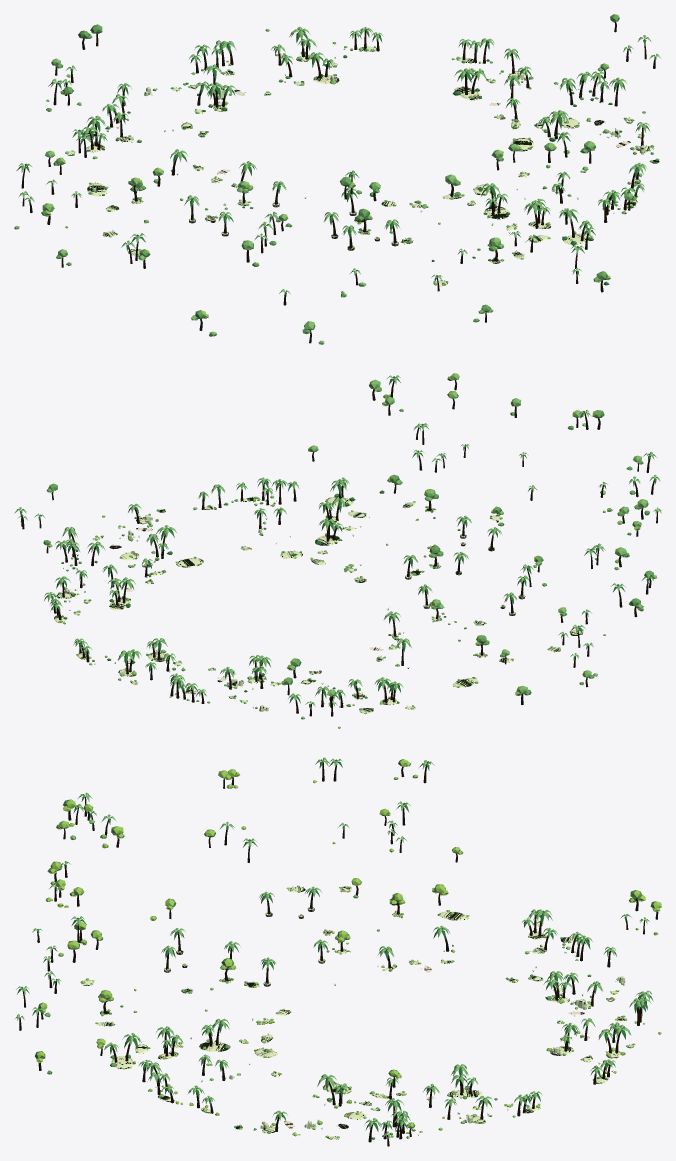
File: ILHA2_10_VEGETATION_94f9d4.fbx
3 renders of one model, top to bottom at view 1: azimuth 30°, elevation 25°; view 2: azimuth 150°, elevation 25°; view 3: azimuth 270°, elevation 25°, orthographic. The views are drawn at different scales.
Parts seen in each view (by area): view 1: DB_Veg_Palms__Leaf_Palm, DB_Veg_Palms__Bark, DB_Veg_Crowns__Leaf_Palm, DB_Veg_Beds__Grass_DB, DB_Veg_Crowns__Bark, DB_Veg_Beds__Grass_DB_B, DB_Veg_Crowns__Leaf_Pine_Light, DB_Veg_Palms__Leaf_DBVegDeep_g14_10, DB_Veg_Crowns__Leaf_DBVegDeep, DB_Veg_Shrubs__Leaf_DBVegDeep, DB_Veg_Palms__Leaf_DBVegDeep_g13_9, DB_Veg_Shrubs__Leaf_Pine_Light_g13_9; view 2: DB_Veg_Palms__Leaf_Palm, DB_Veg_Palms__Bark, DB_Veg_Beds__Grass_DB, DB_Veg_Crowns__Leaf_Palm, DB_Veg_Beds__Grass_DB_B, DB_Veg_Crowns__Bark, DB_Veg_Crowns__Leaf_Pine_Light, DB_Veg_Palms__Leaf_DBVegDeep_g14_10, DB_Veg_Crowns__Leaf_DBVegLime, DB_Veg_Crowns__Leaf_DBVegDeep; view 3: DB_Veg_Palms__Leaf_Palm, DB_Veg_Palms__Bark, DB_Veg_Beds__Grass_DB, DB_Veg_Crowns__Leaf_DBVegLime, DB_Veg_Beds__Grass_DB_B, DB_Veg_Crowns__Leaf_Palm, DB_Veg_Crowns__Bark, DB_Veg_Shrubs__Leaf_DBVegLime, DB_Veg_Palms__Leaf_DBVegDeep_g14_10, DB_Veg_Crowns__Leaf_Pine_Light, DB_Veg_Crowns__Leaf_DBVegDeep, DB_Veg_Palms__Leaf_DBVegDeep_g13_9.
Part boxes in pixels (bbox=[...]): DB_Veg_Palms__Leaf_Palm: bbox=[83, 26, 649, 248]; DB_Veg_Palms__Bark: bbox=[89, 30, 643, 261]; DB_Veg_Crowns__Leaf_Palm: bbox=[14, 29, 661, 344]; DB_Veg_Beds__Grass_DB: bbox=[68, 46, 657, 284]; DB_Veg_Crowns__Bark: bbox=[21, 22, 655, 343]; DB_Veg_Beds__Grass_DB_B: bbox=[67, 47, 659, 286]; DB_Veg_Crowns__Leaf_Pine_Light: bbox=[41, 14, 636, 334]; DB_Veg_Palms__Leaf_DBVegDeep_g14_10: bbox=[200, 29, 618, 108]; DB_Veg_Crowns__Leaf_DBVegDeep: bbox=[16, 37, 656, 336]; DB_Veg_Shrubs__Leaf_DBVegDeep: bbox=[72, 49, 657, 282]; DB_Veg_Palms__Leaf_DBVegDeep_g13_9: bbox=[184, 173, 565, 238]; DB_Veg_Shrubs__Leaf_Pine_Light_g13_9: bbox=[103, 46, 612, 285]; DB_Veg_Palms__Leaf_Palm: bbox=[44, 477, 529, 701]; DB_Veg_Palms__Bark: bbox=[53, 482, 523, 713]; DB_Veg_Beds__Grass_DB: bbox=[55, 497, 581, 712]; DB_Veg_Crowns__Leaf_Palm: bbox=[14, 373, 661, 728]; DB_Veg_Beds__Grass_DB_B: bbox=[54, 497, 583, 713]; DB_Veg_Crowns__Bark: bbox=[21, 380, 658, 716]; DB_Veg_Crowns__Leaf_Pine_Light: bbox=[43, 377, 653, 695]; DB_Veg_Palms__Leaf_DBVegDeep_g14_10: bbox=[44, 529, 270, 676]; DB_Veg_Crowns__Leaf_DBVegLime: bbox=[43, 373, 648, 727]; DB_Veg_Crowns__Leaf_DBVegDeep: bbox=[18, 376, 661, 719]; DB_Veg_Palms__Leaf_Palm: bbox=[99, 886, 651, 1129]; DB_Veg_Palms__Bark: bbox=[103, 892, 645, 1142]; DB_Veg_Beds__Grass_DB: bbox=[84, 887, 633, 1138]; DB_Veg_Crowns__Leaf_DBVegLime: bbox=[36, 759, 661, 1127]; DB_Veg_Beds__Grass_DB_B: bbox=[81, 886, 634, 1139]; DB_Veg_Crowns__Leaf_Palm: bbox=[16, 757, 661, 1138]; DB_Veg_Crowns__Bark: bbox=[19, 762, 658, 1146]; DB_Veg_Shrubs__Leaf_DBVegLime: bbox=[81, 887, 644, 1139]; DB_Veg_Palms__Leaf_DBVegDeep_g14_10: bbox=[369, 973, 607, 1131]; DB_Veg_Crowns__Leaf_Pine_Light: bbox=[35, 759, 661, 1128]; DB_Veg_Crowns__Leaf_DBVegDeep: bbox=[15, 759, 657, 1136]; DB_Veg_Palms__Leaf_DBVegDeep_g13_9: bbox=[157, 889, 328, 1067].
Size of the model in its own units: 411 by 103 by 370.
Materials: 12 (6 with a texture image).
